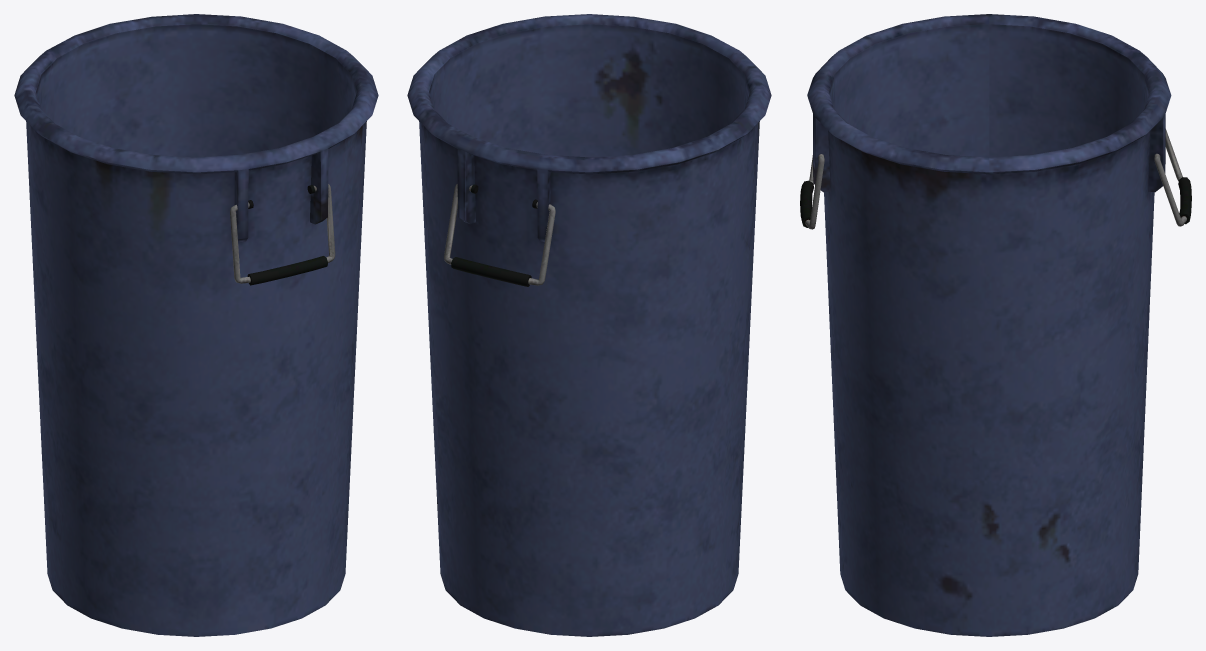
The model's file is trashBin01_blue.FBX.
3 renders of one model, left to right at view 1: azimuth 30°, elevation 25°; view 2: azimuth 150°, elevation 25°; view 3: azimuth 270°, elevation 25°, orthographic.
Parts seen in each view (by area): view 1: SM_TrashBin; view 2: SM_TrashBin; view 3: SM_TrashBin.
Part boxes in pixels (left/top/right/bottom): SM_TrashBin: left=14, top=14, right=378, bottom=636; SM_TrashBin: left=407, top=14, right=771, bottom=636; SM_TrashBin: left=800, top=14, right=1191, bottom=636.
Size of the model in its own units: 60.45 by 89.14 by 65.04.
1 material, 1 textured.
